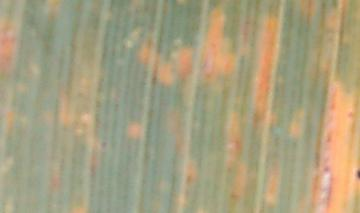tarspot: (99, 140, 109, 149), (355, 169, 360, 180)
